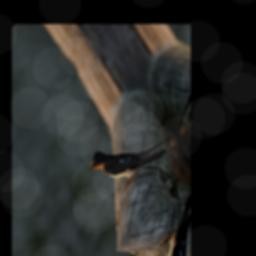Swallow: (83, 89, 175, 217)
